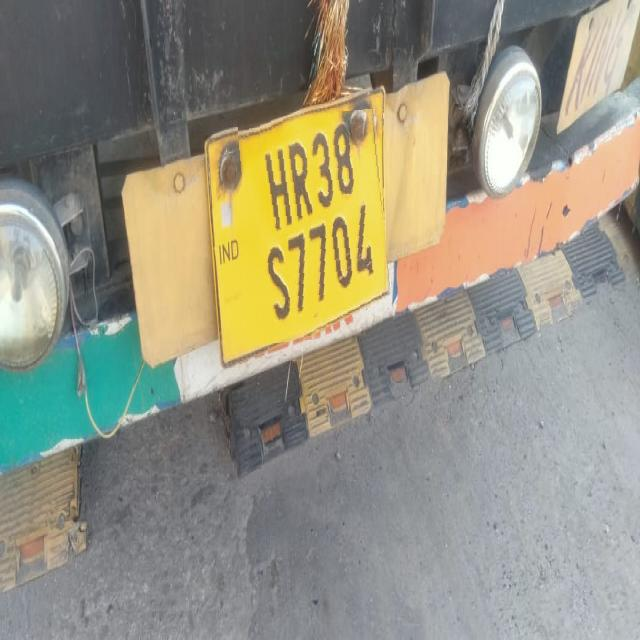License-plate: (242, 111, 390, 342)
